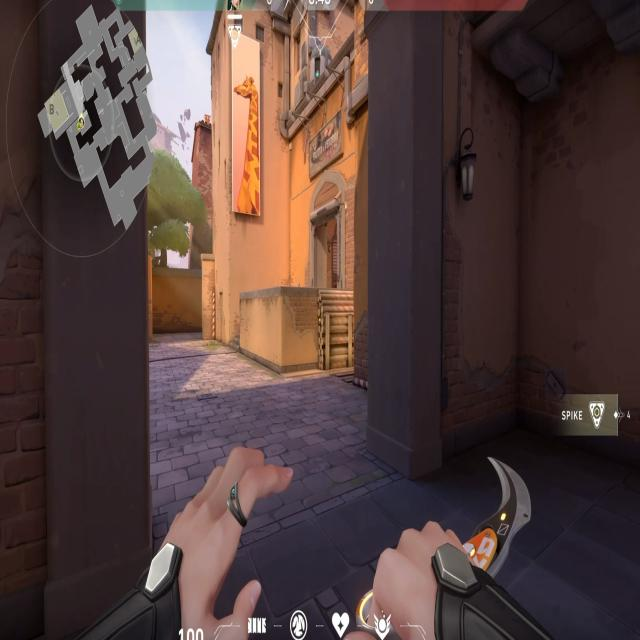B_Cubby: (282, 281, 360, 395)
